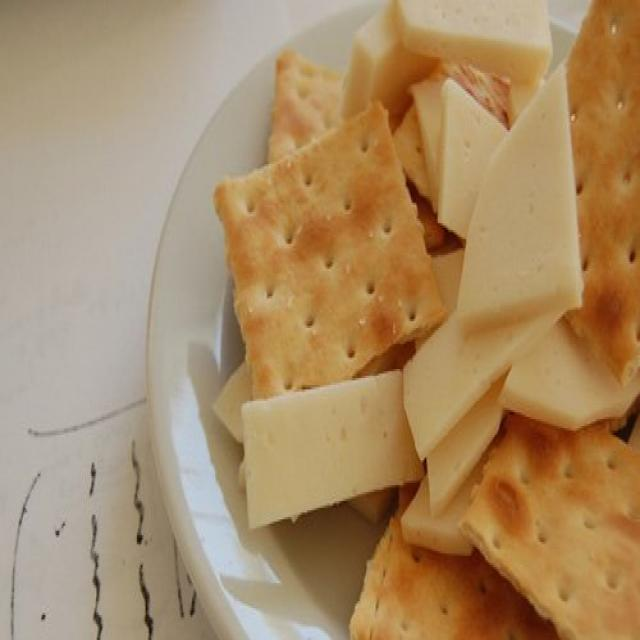Cheese: (465, 66, 581, 335)
Cracker: (215, 107, 444, 367)
